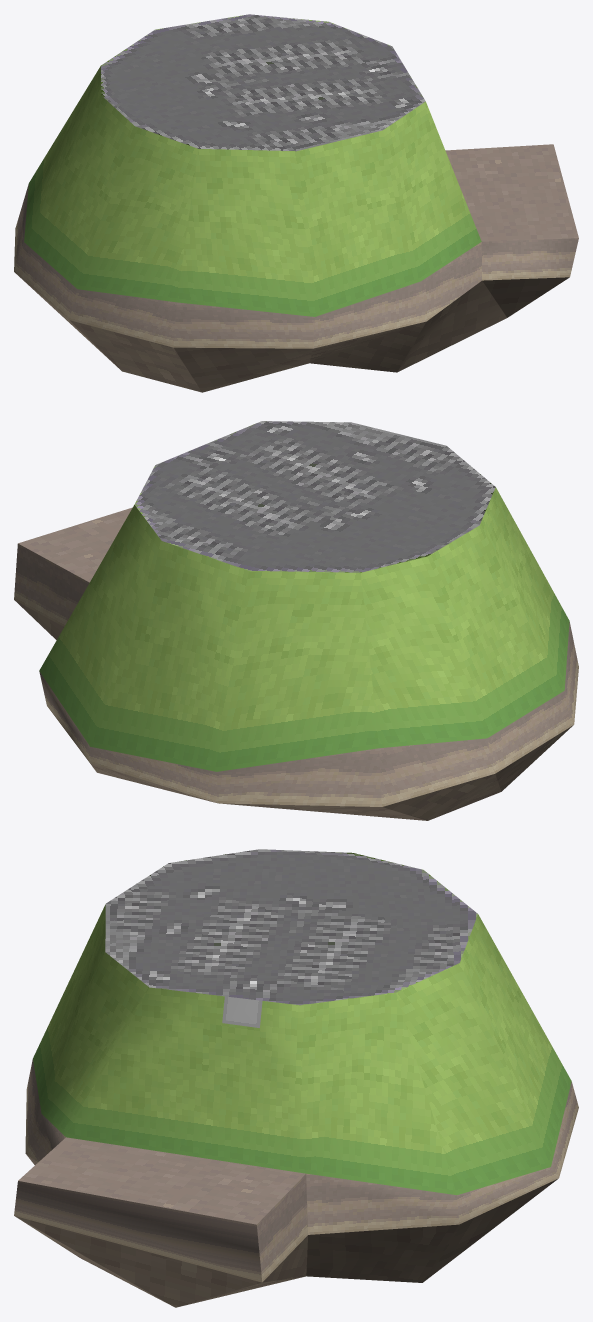
File: 0599_The_Old_Crab_Mart.glb
3 renders of one model, top to bottom at view 1: azimuth 30°, elevation 25°; view 2: azimuth 150°, elevation 25°; view 3: azimuth 270°, elevation 25°, orthographic. The views are drawn at different scales.
Parts seen in each view (by area): view 1: part_0; view 2: part_0; view 3: part_0.
Boxes of the visible parts, bbox=[...] form: part_0: bbox=[14, 14, 578, 392]; part_0: bbox=[14, 421, 578, 820]; part_0: bbox=[14, 849, 578, 1307].
Bounding box in the file's own units: 83.32 × 44.83 × 70.92.
1 material, 1 textured.
